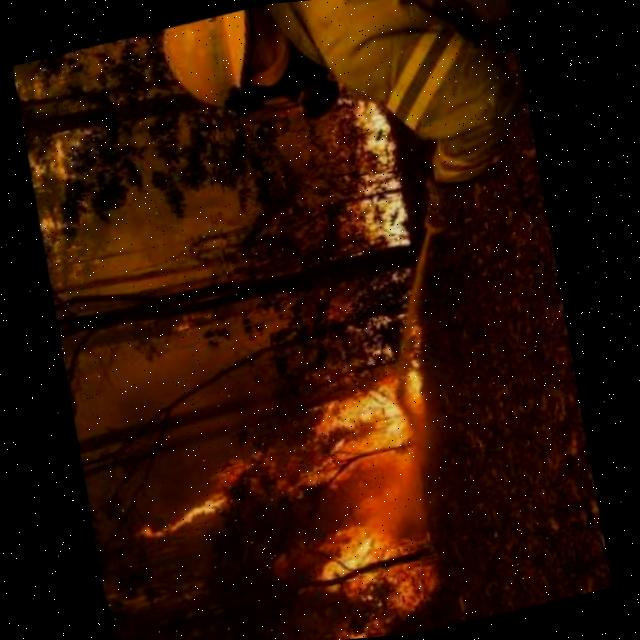fire: (103, 320, 453, 544), (245, 507, 455, 640), (314, 80, 418, 259)
